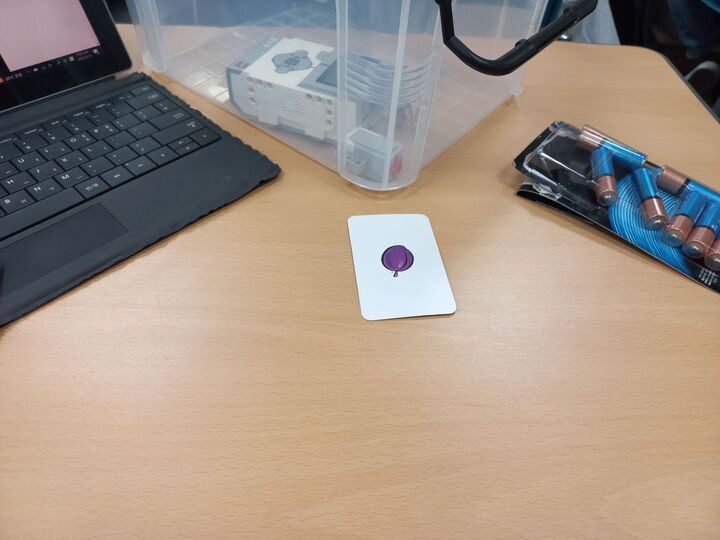plum1: (345, 212, 460, 322)
